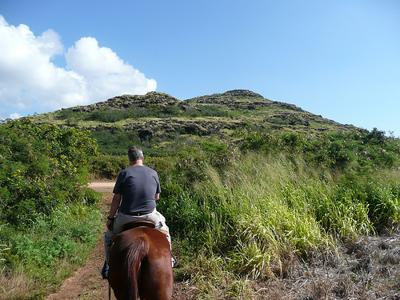person: (99, 146, 174, 281)
